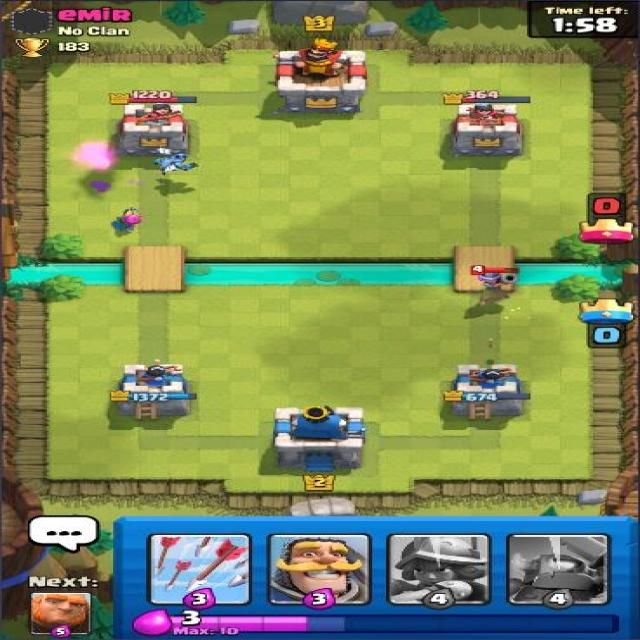Enemy-Musketeer: (469, 263, 524, 293)
Player-Archer: (108, 204, 146, 238)
Player-Minion: (150, 143, 205, 182)
